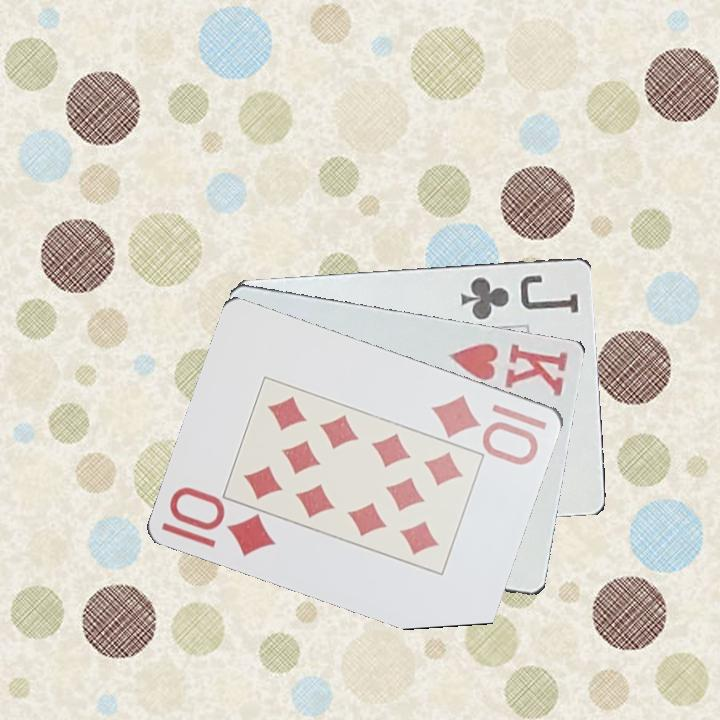Jc: (457, 270, 582, 323)
Kh: (444, 339, 571, 399)
Td: (158, 484, 279, 560), (427, 391, 551, 465)
